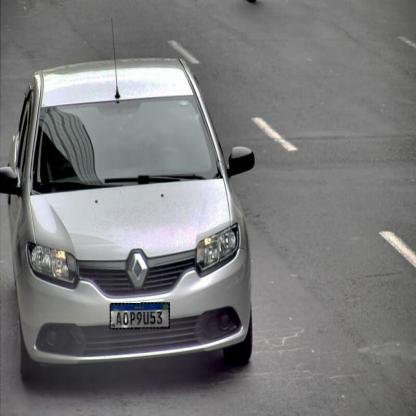PlacaM: (110, 302, 170, 330)
